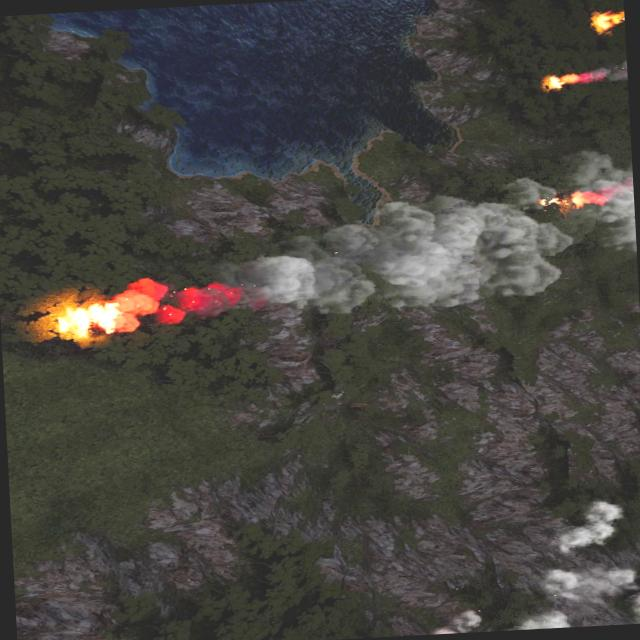fire: (51, 294, 125, 342), (560, 190, 608, 210), (543, 74, 591, 92), (594, 10, 626, 34)
smoke: (106, 171, 576, 363), (416, 499, 640, 635), (576, 150, 636, 256), (571, 64, 628, 92)
